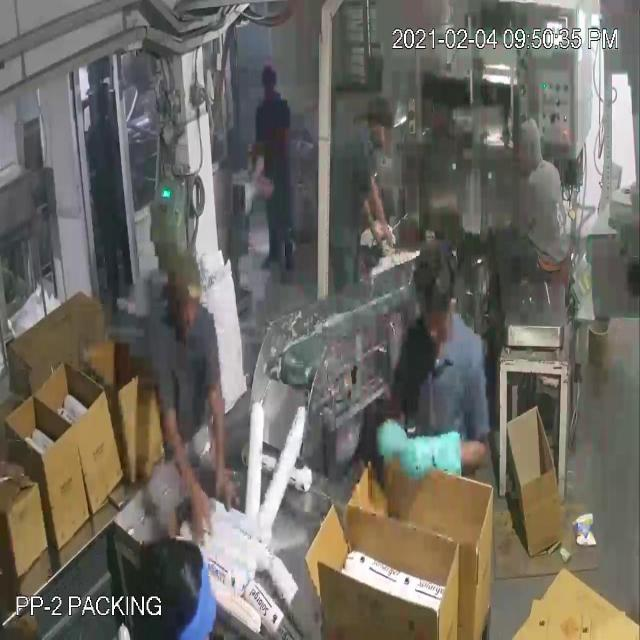No_Gloves: (38, 78, 432, 469)
